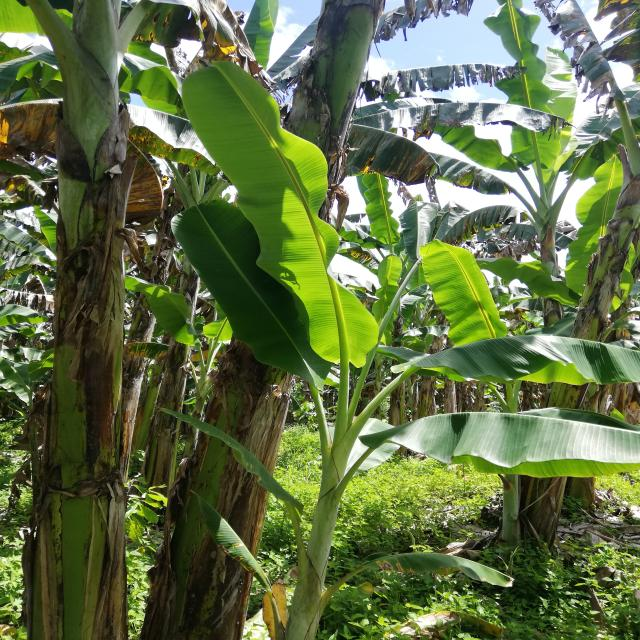Banana-plant: (146, 13, 388, 640), (0, 13, 152, 640), (515, 138, 640, 544)
